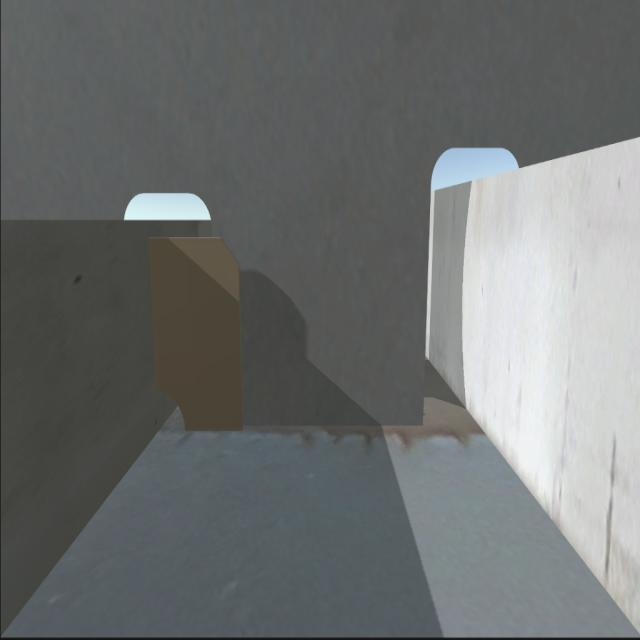fillet_hole: (153, 386, 190, 436)
fillet_yong_jeop_jang: (180, 419, 425, 435)
longi_yong_jeop_jang: (146, 238, 162, 389)
plate_CP03: (146, 225, 246, 428)
